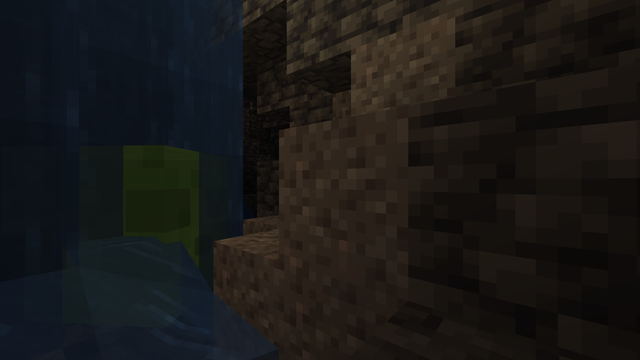slimes: (41, 131, 246, 351)
